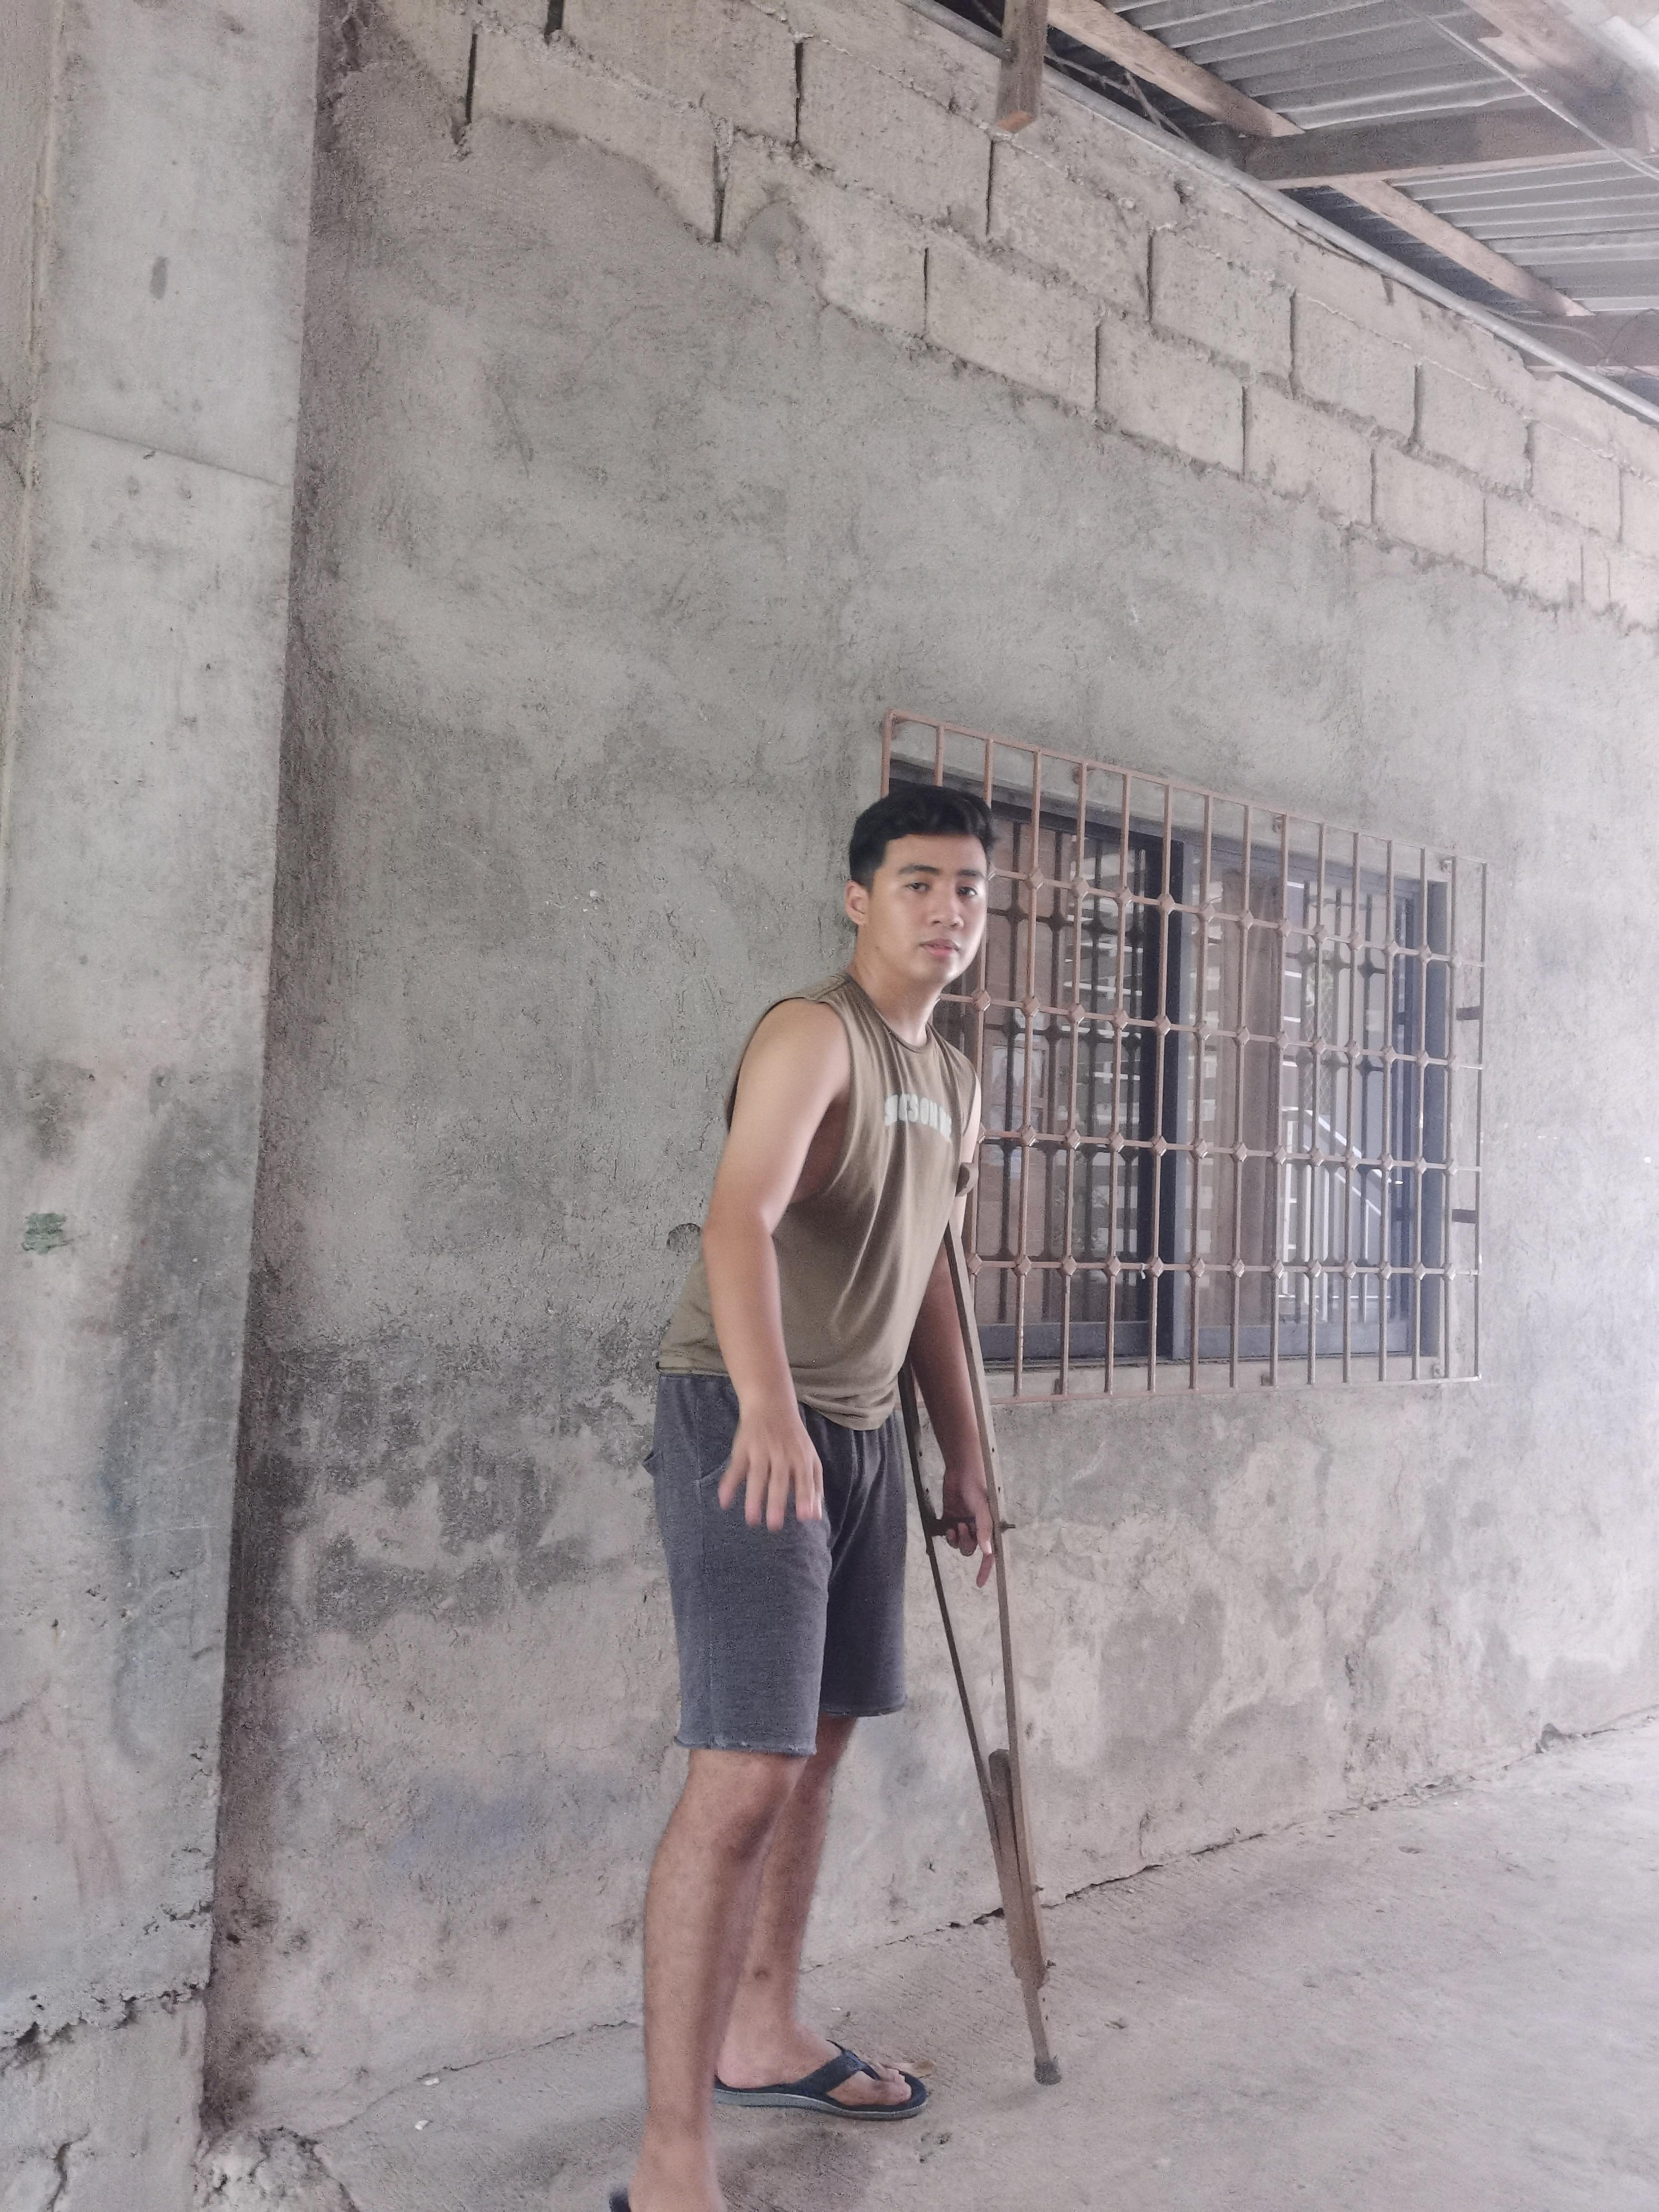crutches: (612, 786, 1066, 2212)
